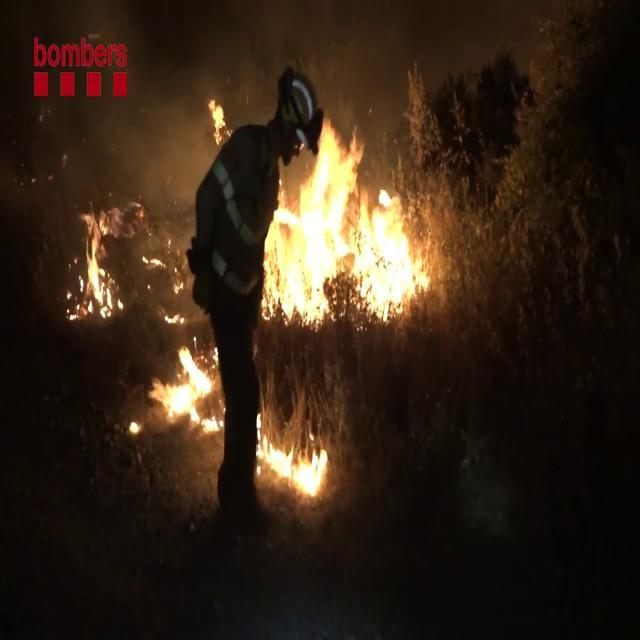Fire: (261, 109, 430, 330), (259, 416, 329, 499), (158, 338, 220, 431), (73, 213, 119, 322), (206, 89, 230, 150)
